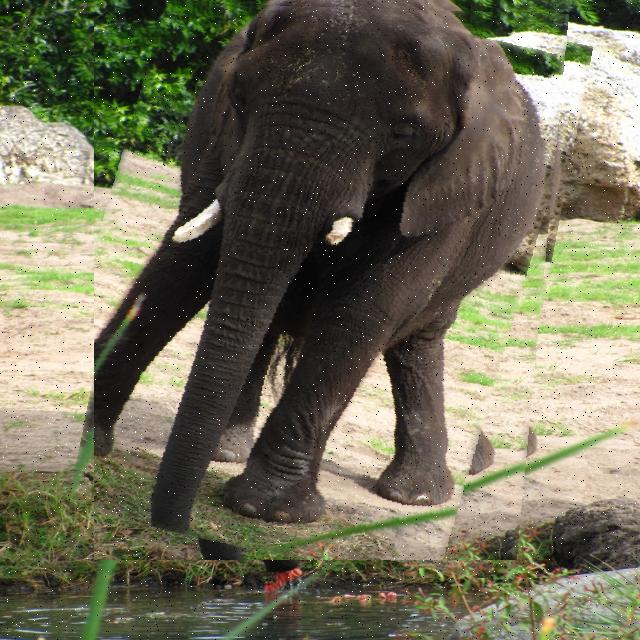elephant: (94, 0, 569, 560)
